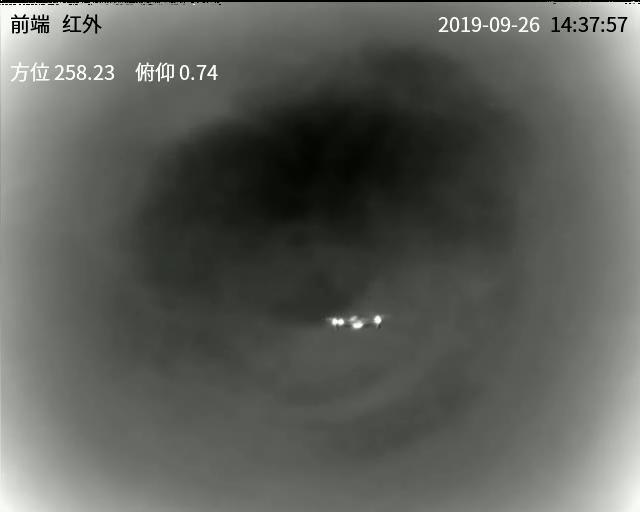uav: (324, 306, 389, 334)
